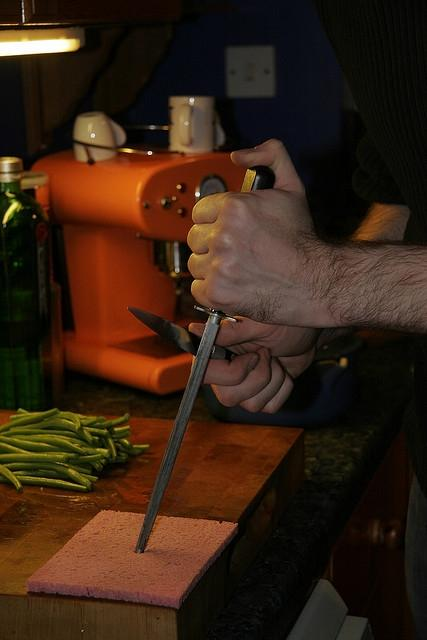green bean: (0, 442, 92, 474), (2, 462, 93, 491), (9, 418, 93, 446), (0, 475, 89, 492), (0, 408, 60, 432), (9, 436, 88, 454), (0, 436, 78, 454), (2, 429, 100, 442), (12, 470, 98, 482), (0, 454, 68, 464), (0, 464, 23, 492), (68, 454, 104, 466), (101, 414, 130, 428), (80, 417, 100, 427), (105, 456, 126, 463), (77, 463, 93, 471), (111, 432, 130, 438)
